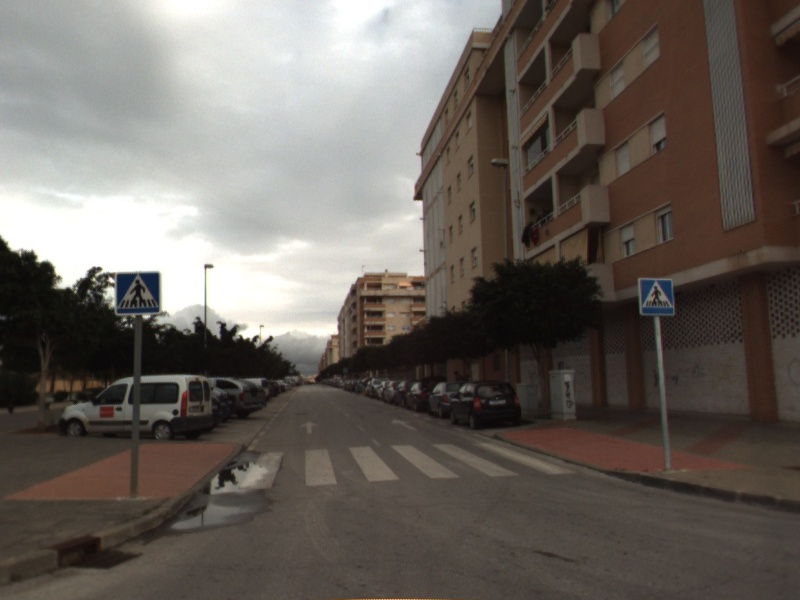STRAIGHT: (389, 417, 420, 433), (298, 418, 322, 435)
